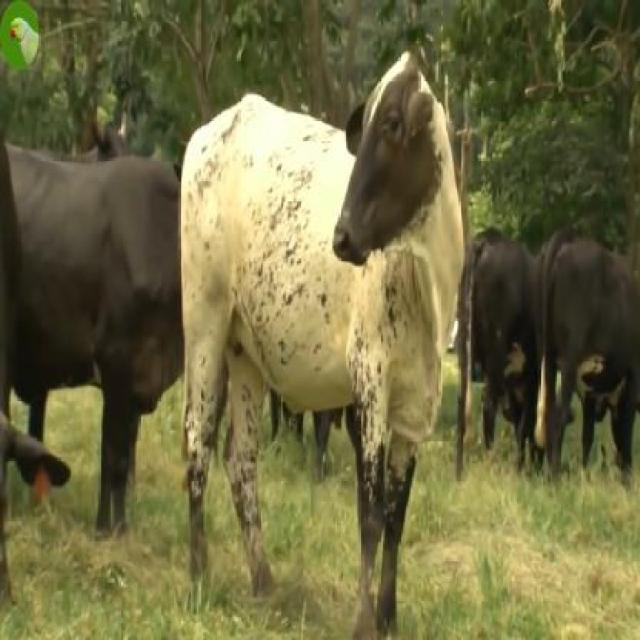Cow: (180, 51, 466, 634)
